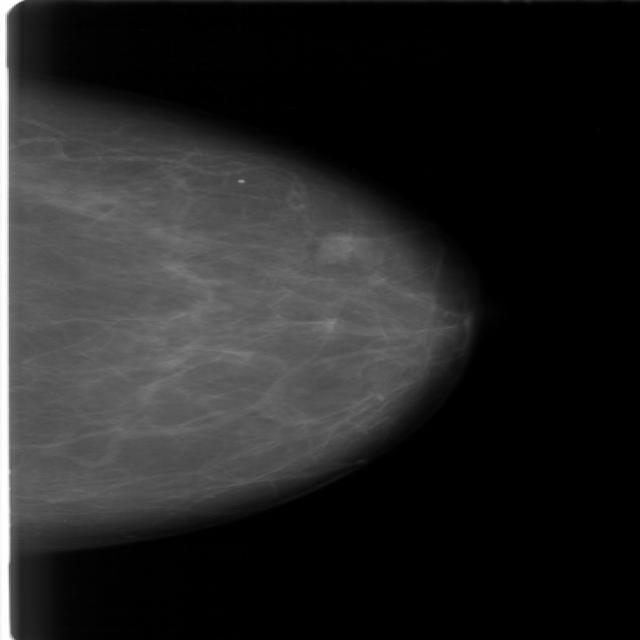tumour: (310, 230, 354, 266)
